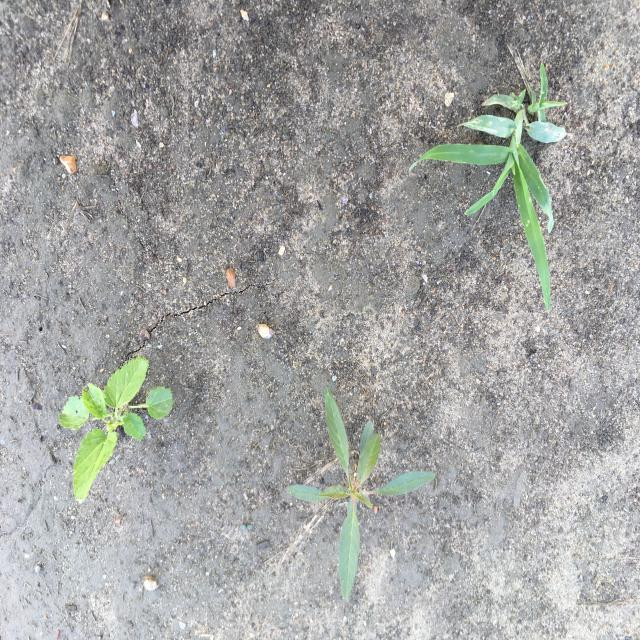Goosegrass: (408, 62, 569, 316)
PricklySida: (57, 354, 175, 506)
Waterhemp: (285, 384, 437, 602)
